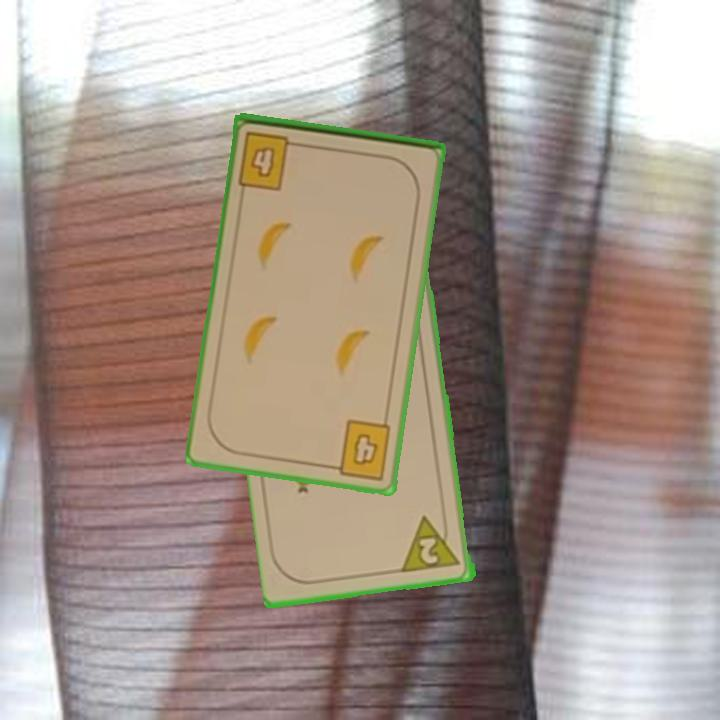2p: (400, 511, 465, 576)
4b: (325, 416, 394, 483), (234, 128, 305, 193)
